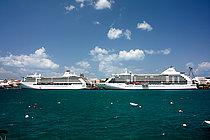Ship: (96, 73, 201, 92), (17, 70, 89, 92)
